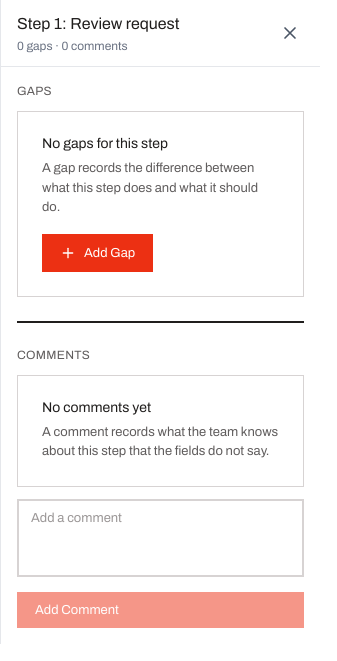
Test: CommentsSection in RightPanel › adds a comment and persists the whole thread
In the text box labelled "Add a comment": (160, 538) [17,498,304,577], type "Approver is unnamed here"
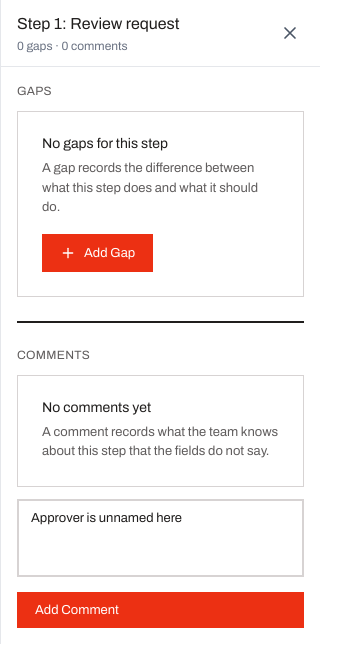
Click the button "Add Comment": (77, 610) [17,592,304,628]
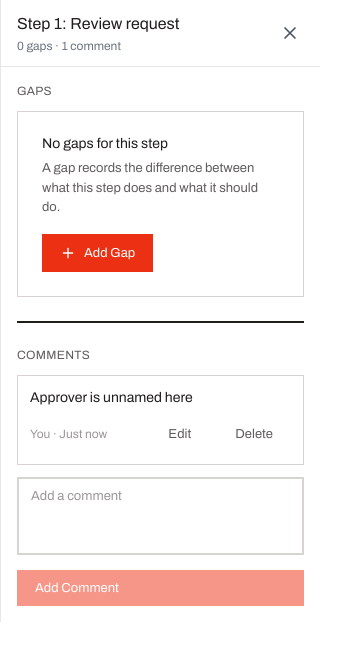
Check: the text "Approver is unnamed here" is shown, box [30,390,193,404]
Check: the text box labelled "Add a comment" is empty, box [17,476,304,555]
Check: the text "0 gaps · 1 comment" is shown, box [17,39,121,53]
